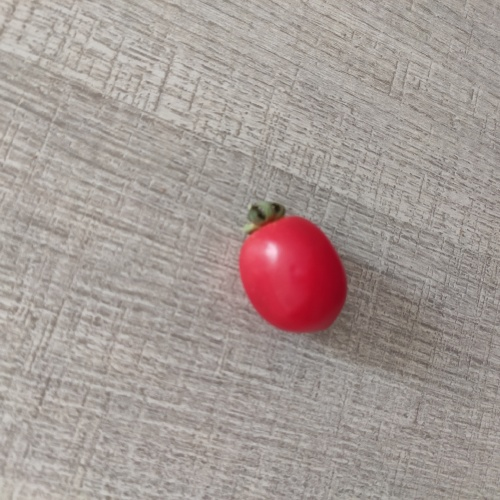pomodoro: (238, 196, 348, 337)
